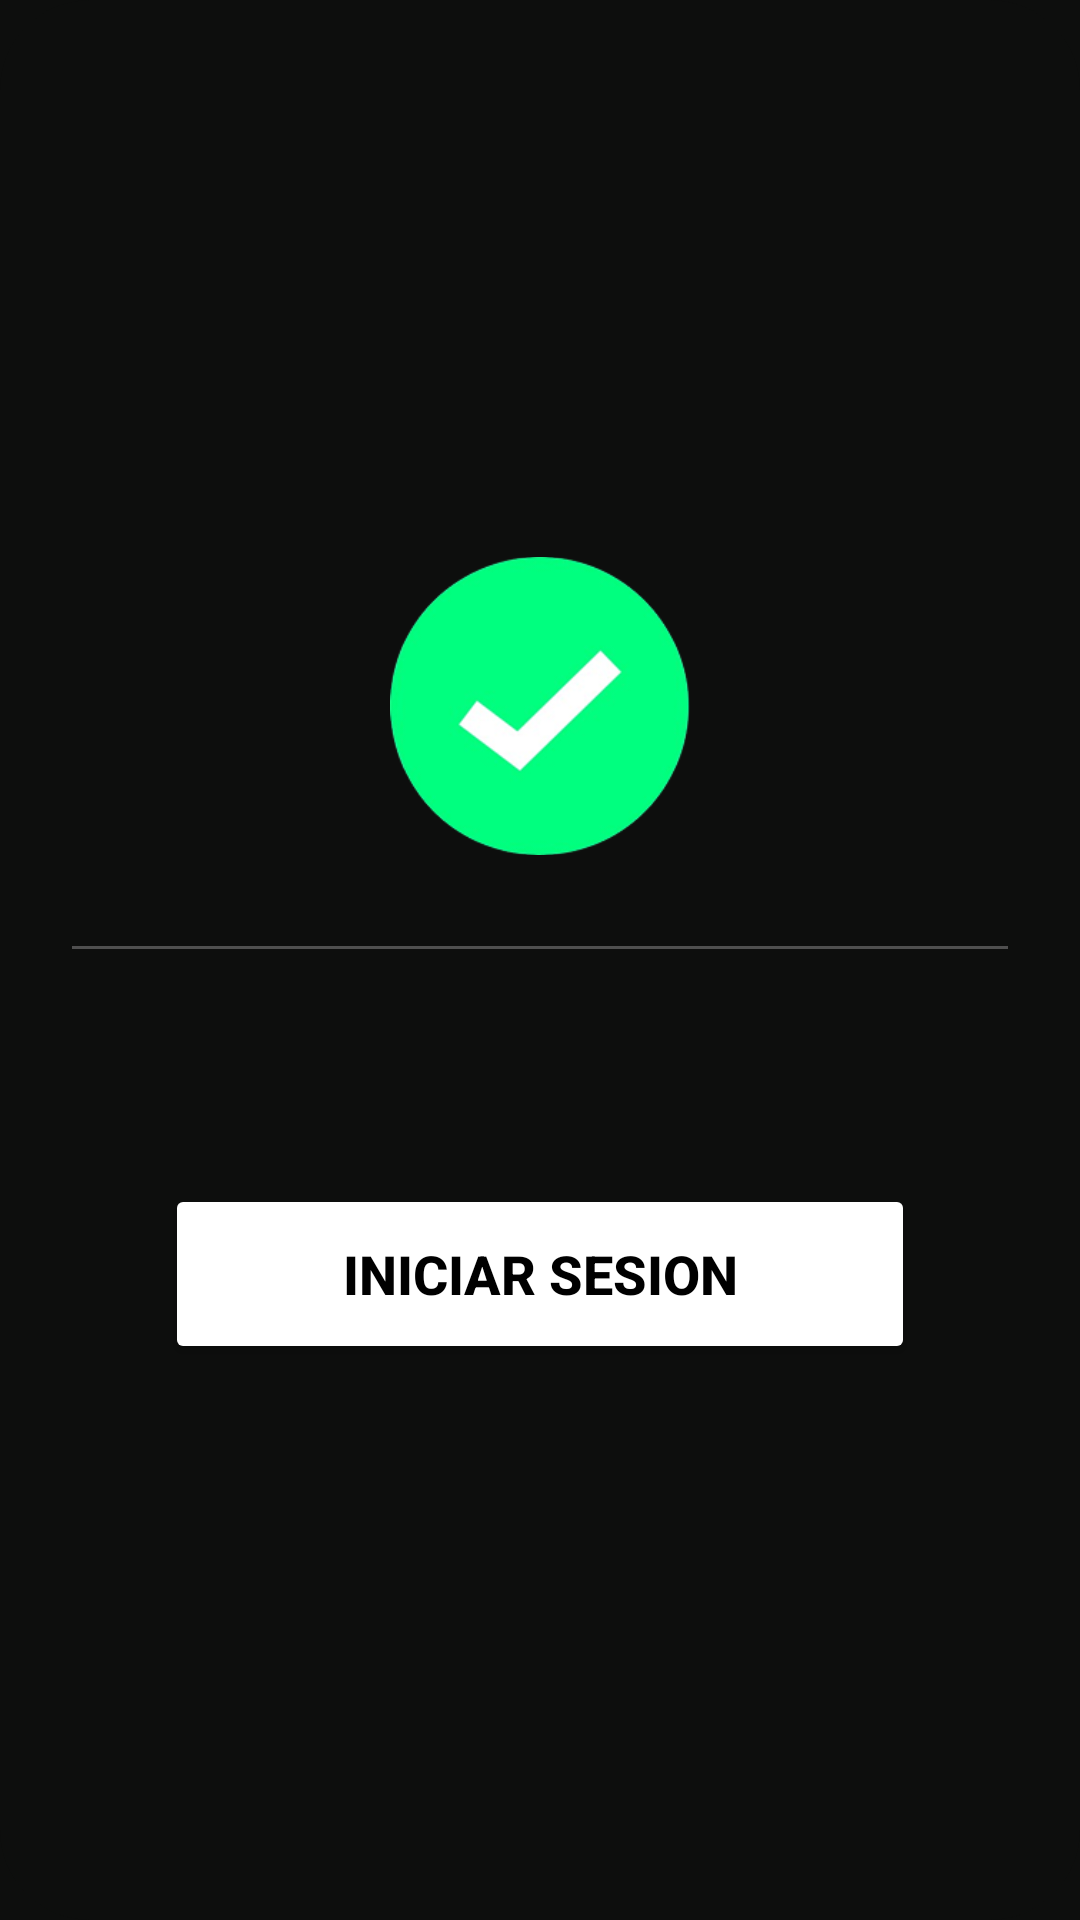

Icon click points for this 1080px×1920px phone screenshot, format (x,y):
checkmark true: (540,706)
